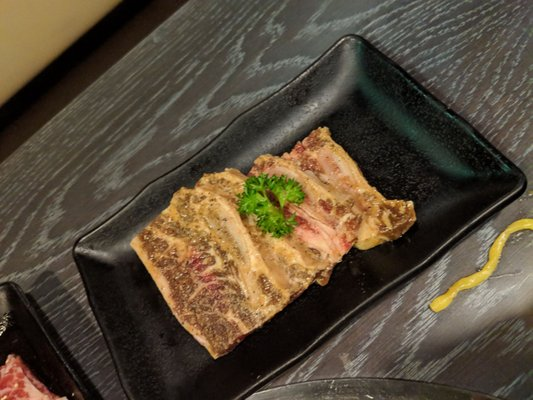curry: (238, 174, 306, 238)
